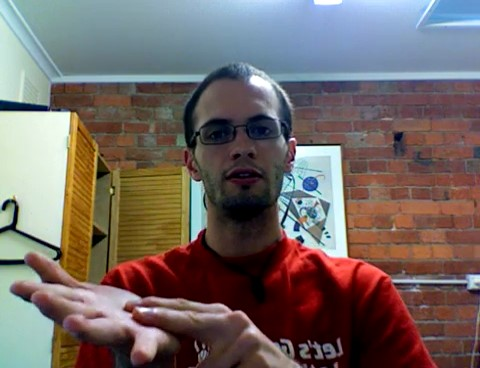V: (8, 248, 290, 368)
